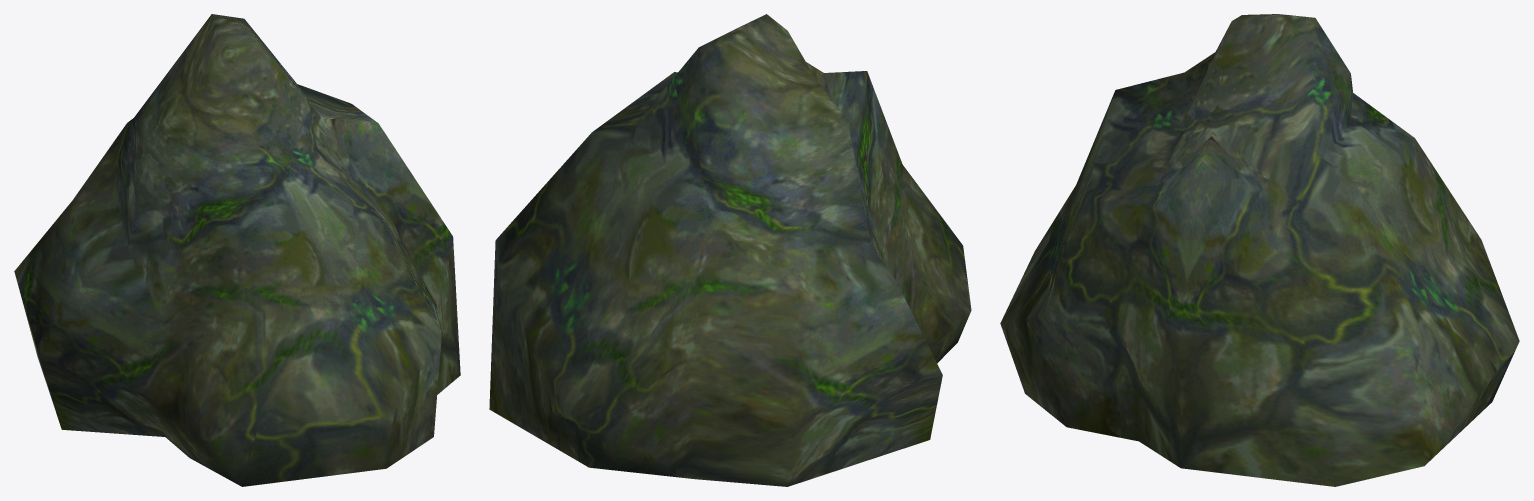
File: 10204_stone06.FBX
The picture shows the model from 3 angles, left to right: view 1: azimuth 30°, elevation 25°; view 2: azimuth 150°, elevation 25°; view 3: azimuth 270°, elevation 25°; orthographic projection. The views are drawn at different scales.
Visible parts, largest first — view 1: 10204_stone06; view 2: 10204_stone06; view 3: 10204_stone06.
Part boxes in pixels (x1=…): 10204_stone06: x1=14, y1=14, x2=460, y2=486; 10204_stone06: x1=489, y1=14, x2=971, y2=486; 10204_stone06: x1=1000, y1=14, x2=1519, y2=486.
Size of the model in its own units: 236 by 199 by 257.
